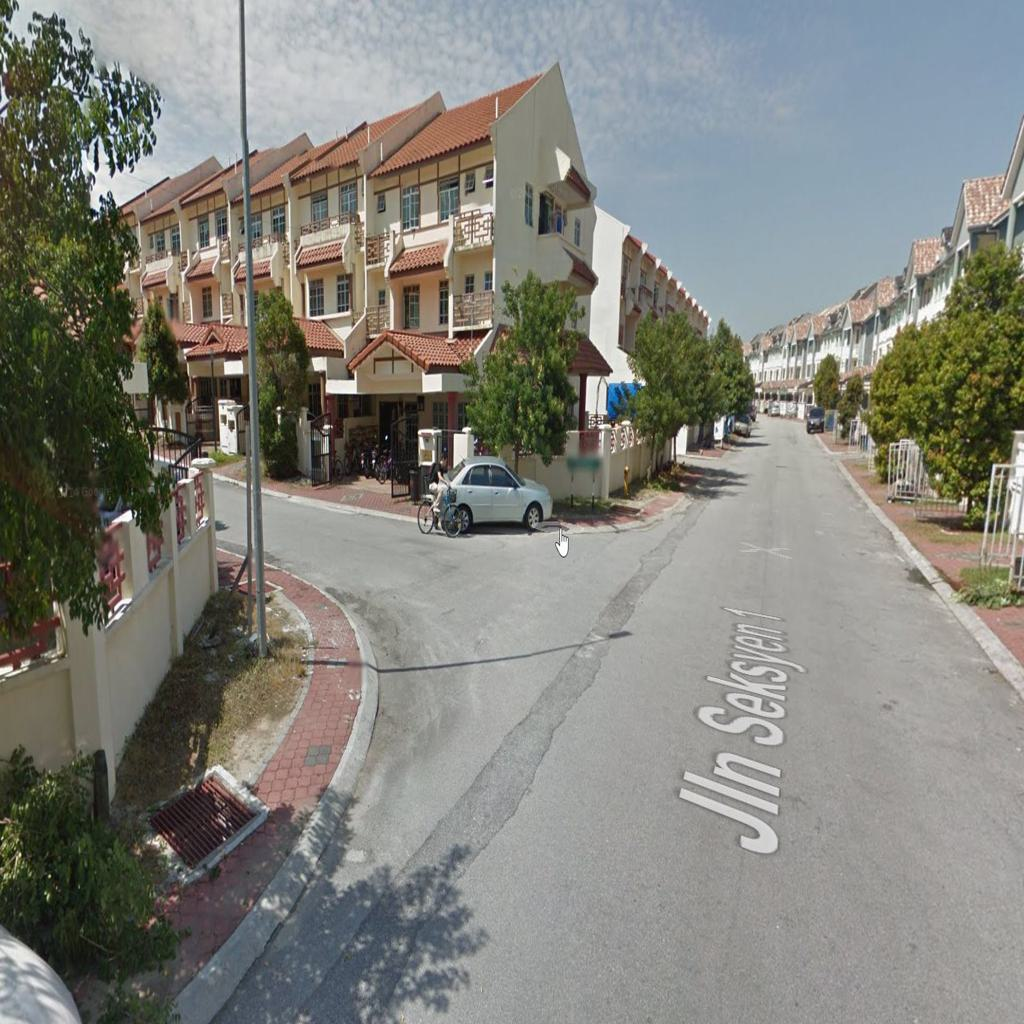Junction: (286, 512, 644, 740)
